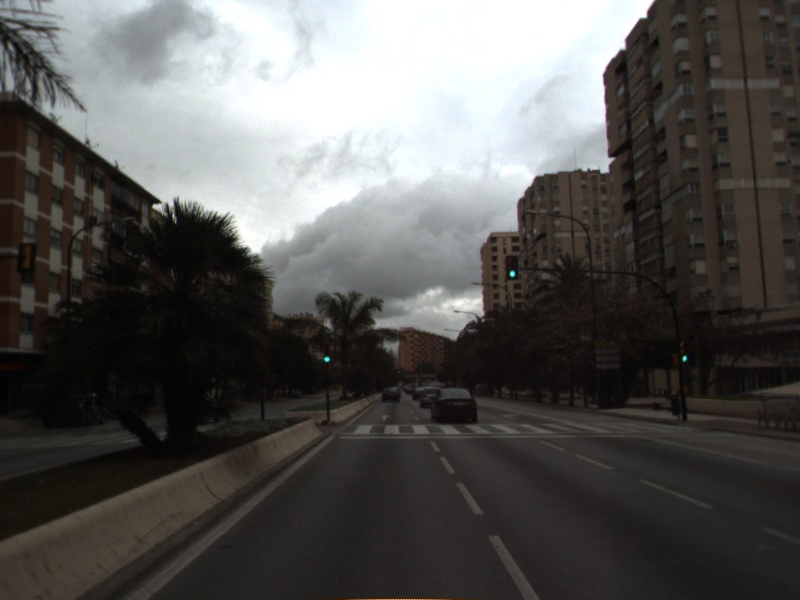STRAIGHT: (377, 412, 394, 423)
